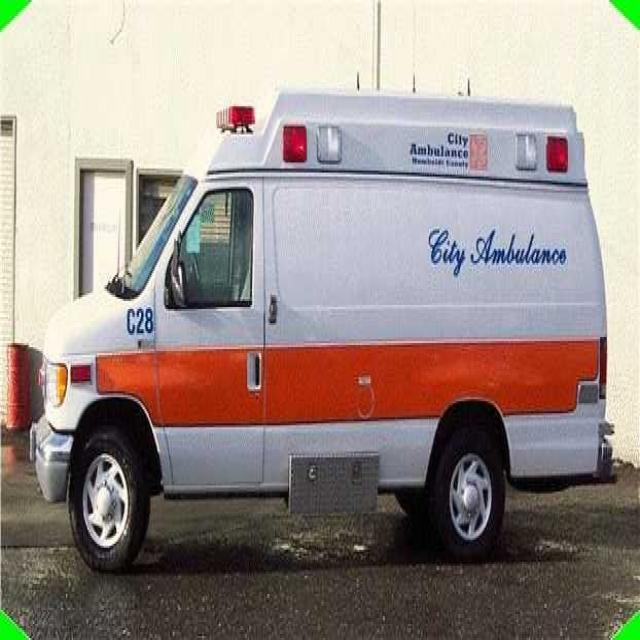emergency-vehicle: (33, 98, 612, 562)
